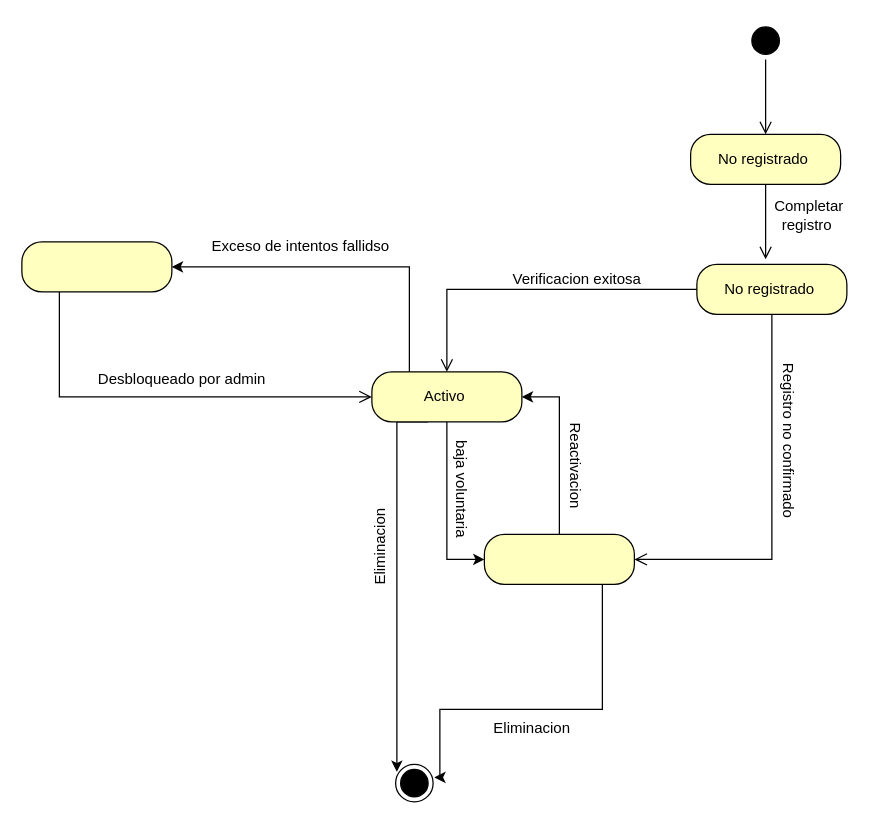
The diagram is 869 pixels wide and 824 high, and some of its shapes have lost their labels. The shapes that lost their labels are listed below. From the top down, each one's box as (x1, y1, x2, y2) in pixels, then its label:
(21, 241, 172, 292): Bloqueado
(483, 533, 634, 584): Inactivo
